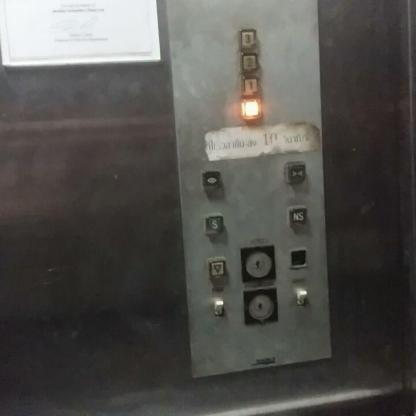1: (241, 77, 259, 95)
2: (242, 53, 256, 71)
3: (238, 29, 256, 47)
NS: (287, 206, 308, 228)
S: (204, 213, 225, 236)
bt_keyhole: (242, 286, 279, 324), (240, 244, 274, 281)
close: (284, 162, 306, 184)
down: (207, 258, 226, 279)
empty: (289, 249, 307, 268), (244, 99, 260, 117)
open: (201, 168, 222, 190)
switch: (293, 286, 307, 306), (212, 298, 224, 316)
